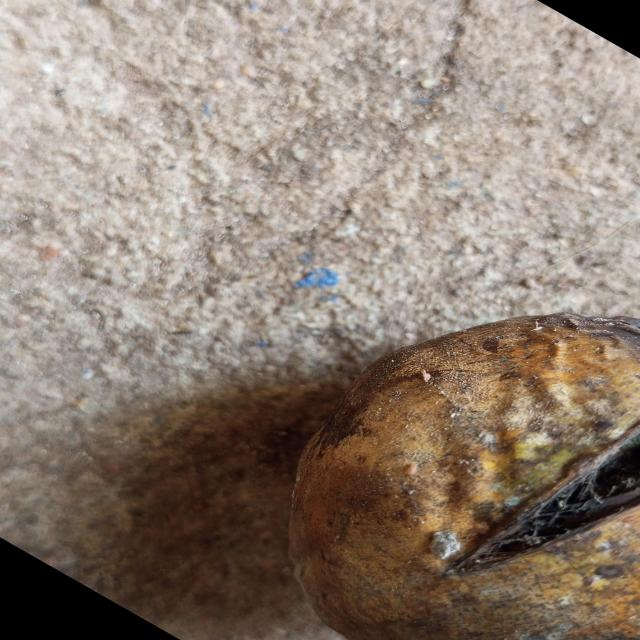damaged: (288, 313, 640, 640)
